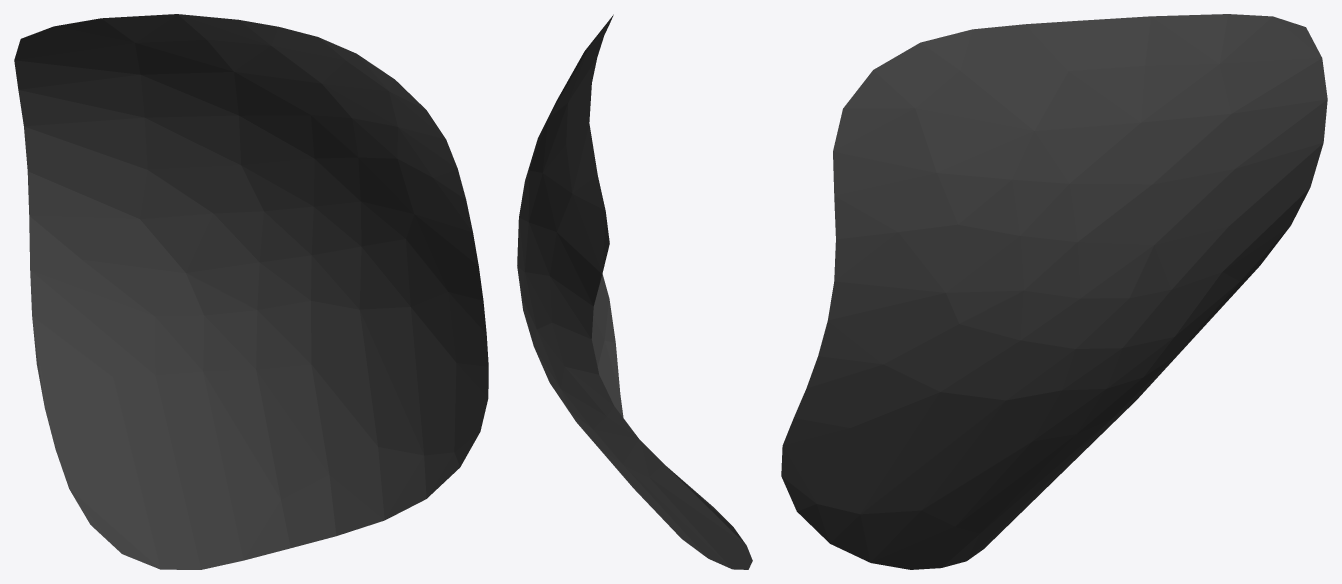
File: Humerus_epicondyle_lateral.glb
3 renders of one model, left to right at view 1: azimuth 30°, elevation 25°; view 2: azimuth 150°, elevation 25°; view 3: azimuth 270°, elevation 25°, orthographic. The views are drawn at different scales.
Visible parts, largest first — view 1: Humerus_epicondyle_lateral; view 2: Humerus_epicondyle_lateral; view 3: Humerus_epicondyle_lateral.
Part boxes in pixels (x1,y1,x2,y2): Humerus_epicondyle_lateral: (14,14,488,569); Humerus_epicondyle_lateral: (517,14,752,569); Humerus_epicondyle_lateral: (781,14,1327,569).
Size of the model in its own units: 0.0965 by 0.1589 by 0.1352.
Materials: 1 (1 with a texture image).
